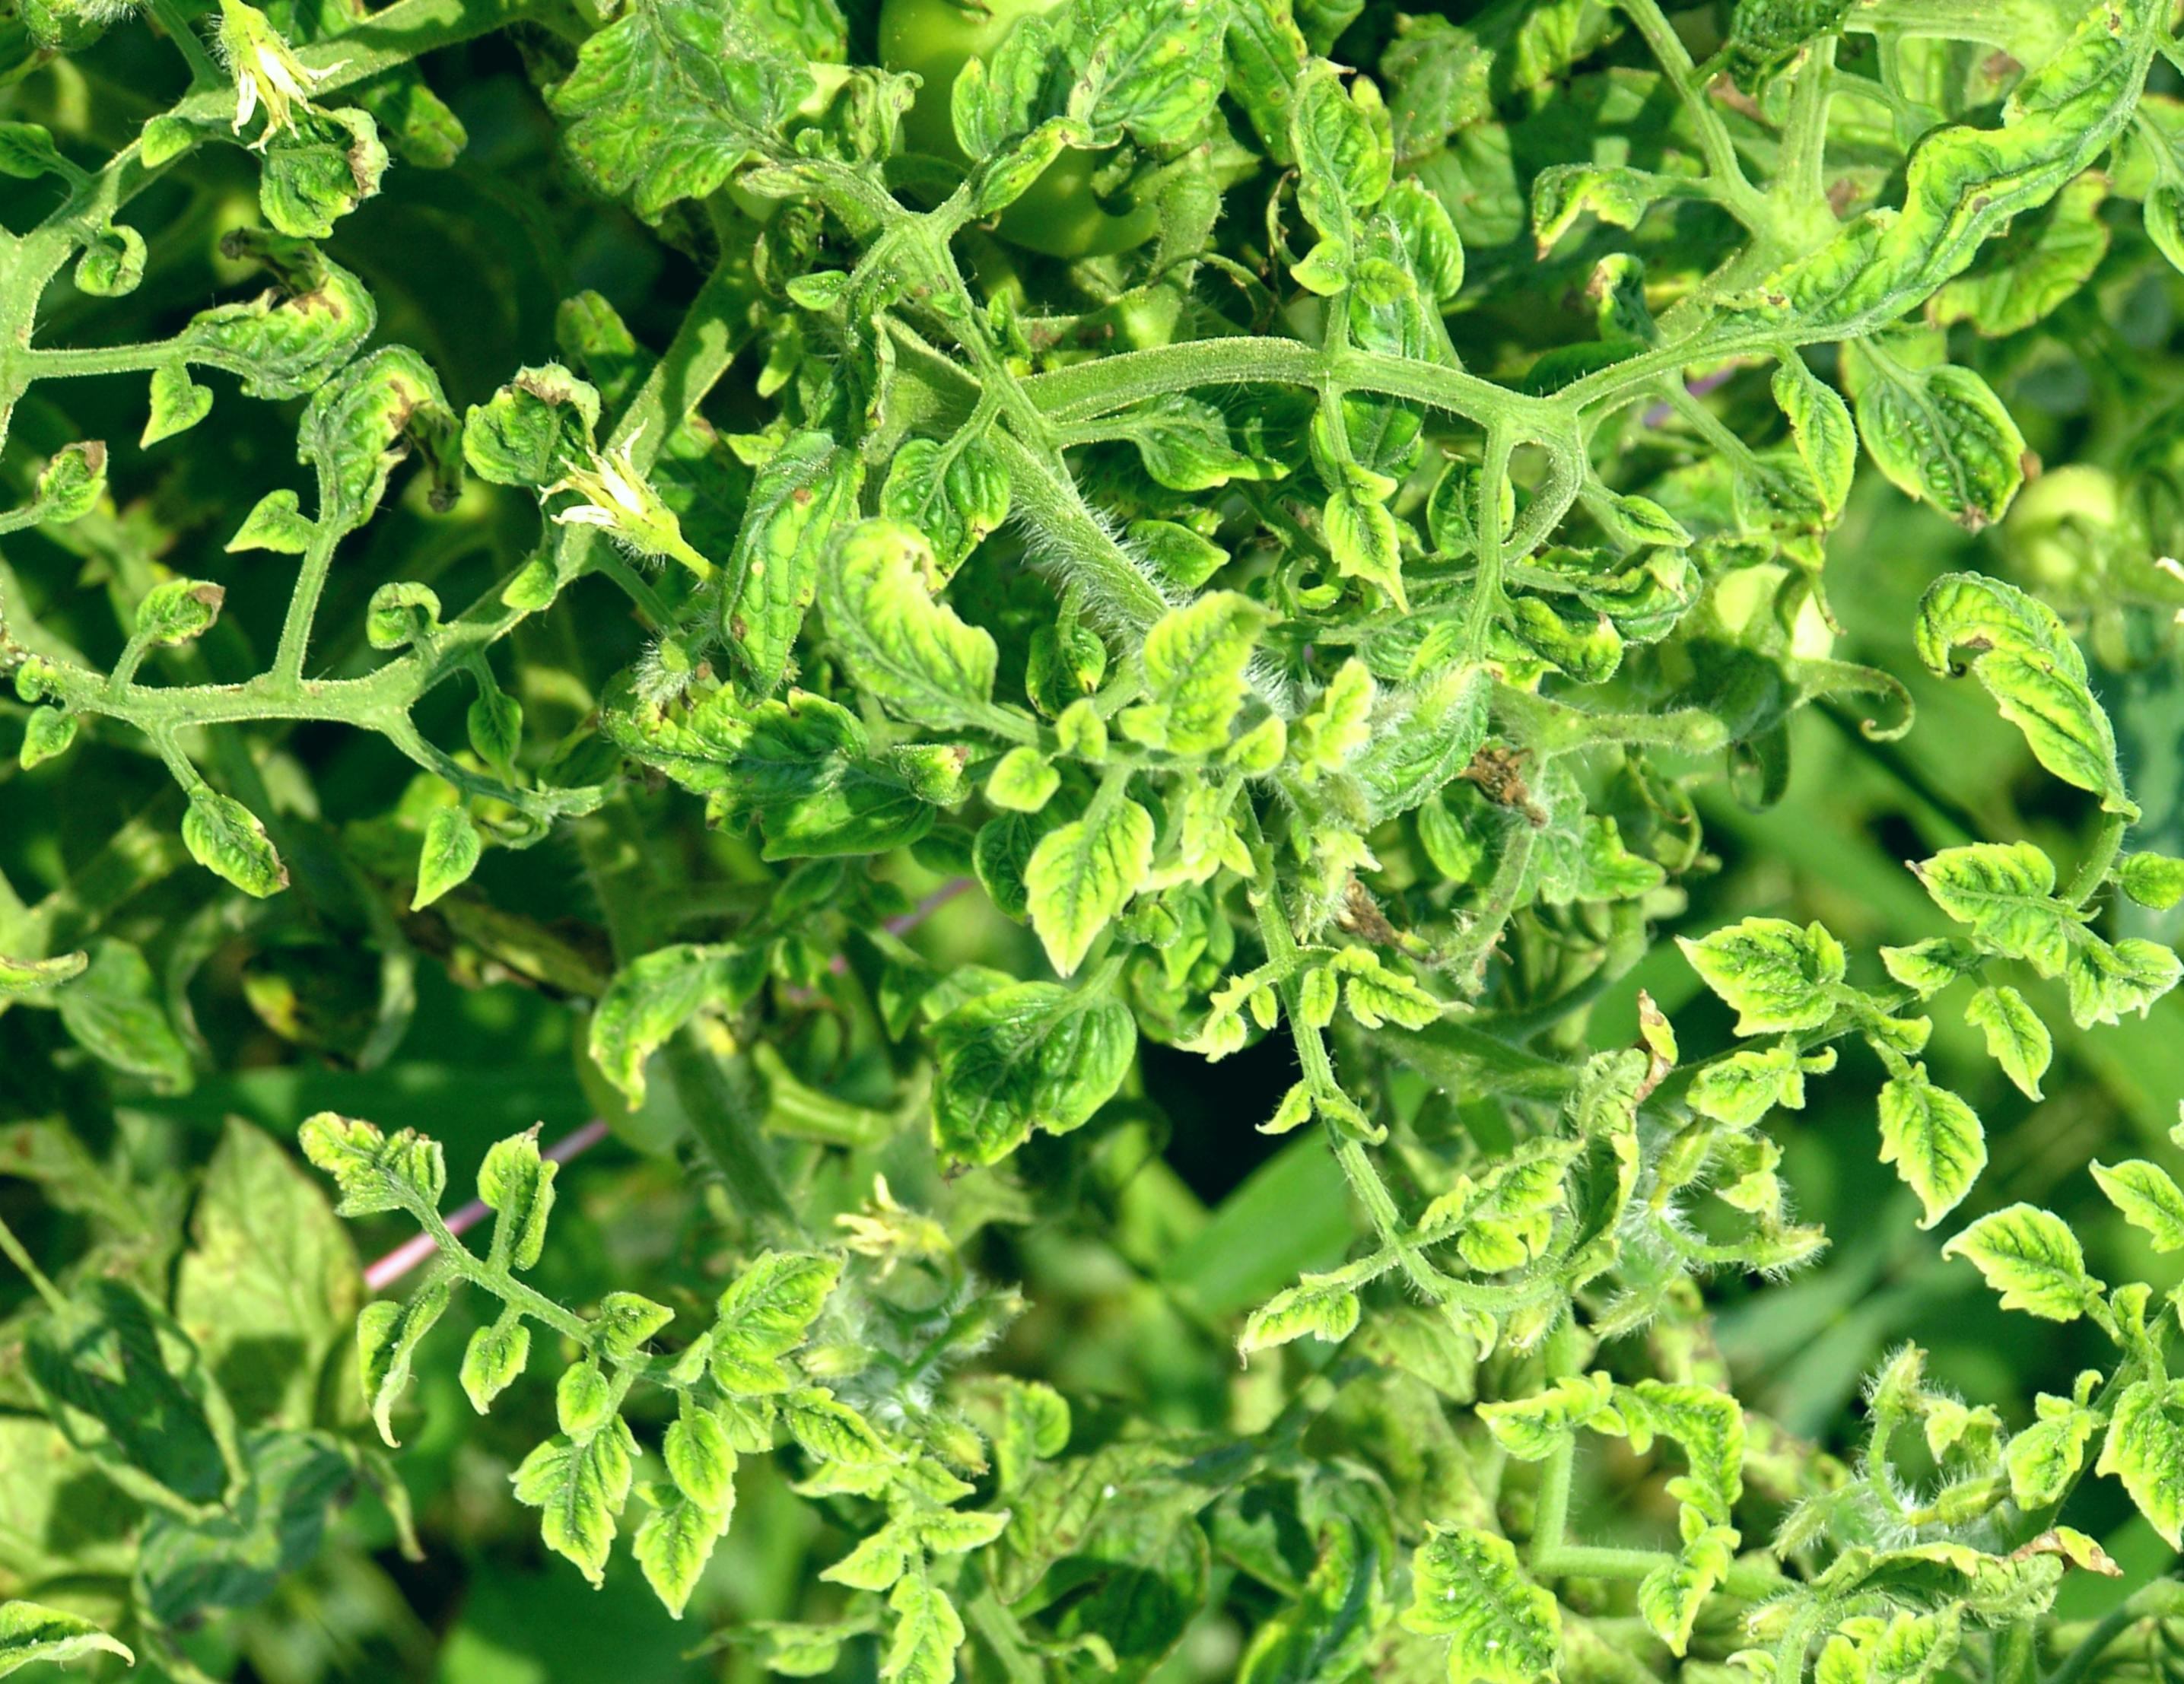Tomato leaf yellow virus: (856, 0, 1369, 297), (813, 884, 1192, 1247), (1006, 527, 1367, 876), (610, 396, 951, 734), (1165, 0, 1501, 322), (1871, 513, 2182, 847), (1867, 750, 2156, 1047), (428, 1305, 718, 1599), (228, 310, 522, 594), (767, 485, 1042, 768), (953, 748, 1233, 1024), (1620, 826, 1889, 1100), (1806, 295, 2064, 564), (255, 1022, 502, 1270), (1816, 1017, 2048, 1251), (1385, 1109, 1625, 1334), (1325, 1474, 1539, 1679), (1181, 1210, 1392, 1417), (0, 686, 113, 1060), (801, 1546, 1049, 1684), (601, 1449, 782, 1624), (1445, 1321, 1615, 1491)
